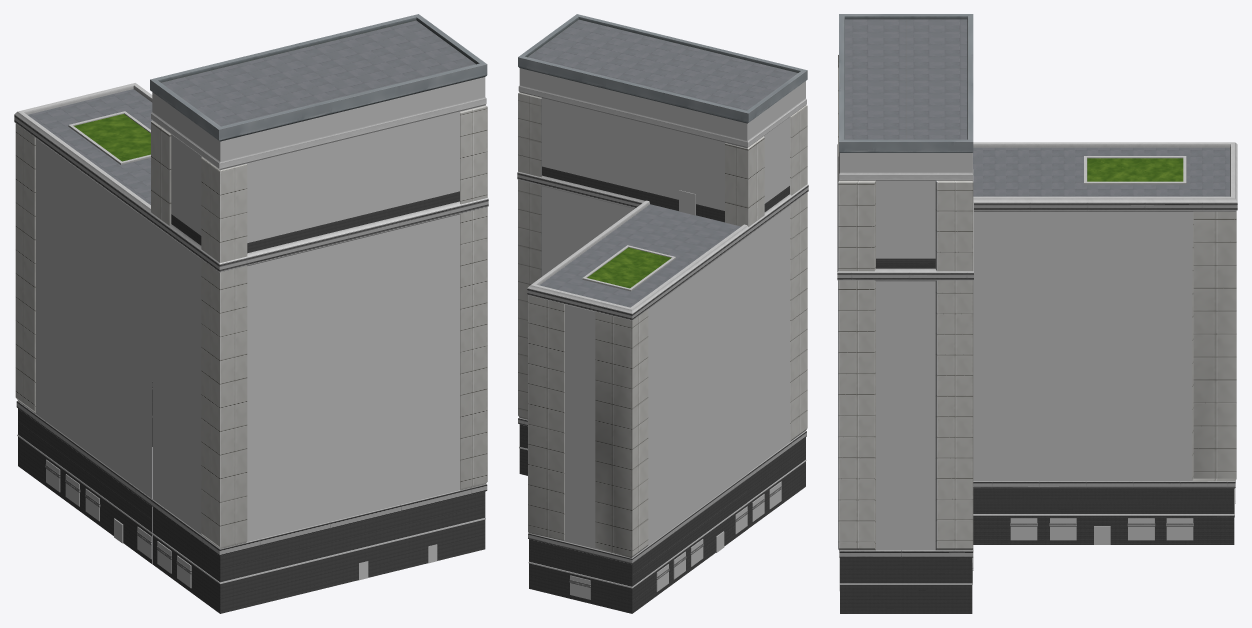
The model's file is House_Corner.fbx.
The picture shows the model from 3 angles, left to right: view 1: azimuth 30°, elevation 25°; view 2: azimuth 150°, elevation 25°; view 3: azimuth 270°, elevation 25°; orthographic projection. The views are drawn at different scales.
Parts seen in each view (by area): view 1: House_Corner; view 2: House_Corner; view 3: House_Corner.
Boxes of the visible parts, x1,y1,x2,y2 form: House_Corner: (14,14,488,613); House_Corner: (517,14,808,613); House_Corner: (837,14,1237,613).
Size of what is drawn, in the model's own units: 36.58 by 63.01 by 48.3.
